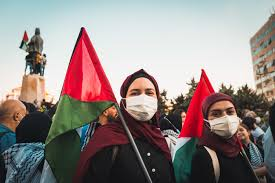with_mask: (127, 80, 155, 117), (209, 102, 236, 134)
